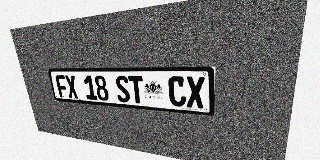1: (82, 75, 98, 100)
8: (94, 75, 109, 101)
C: (168, 76, 186, 107)
F: (55, 75, 69, 98)
S: (114, 76, 131, 103)
T: (128, 76, 145, 104)
X: (186, 76, 205, 109), (64, 75, 79, 99)
